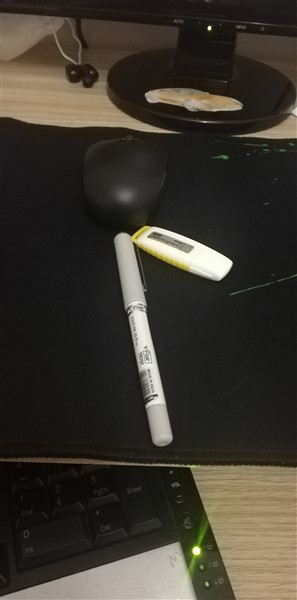flash disk: (129, 221, 234, 285)
klavye: (1, 445, 244, 597)
mouse: (79, 128, 183, 230)
pilot kalem: (101, 233, 175, 447)
